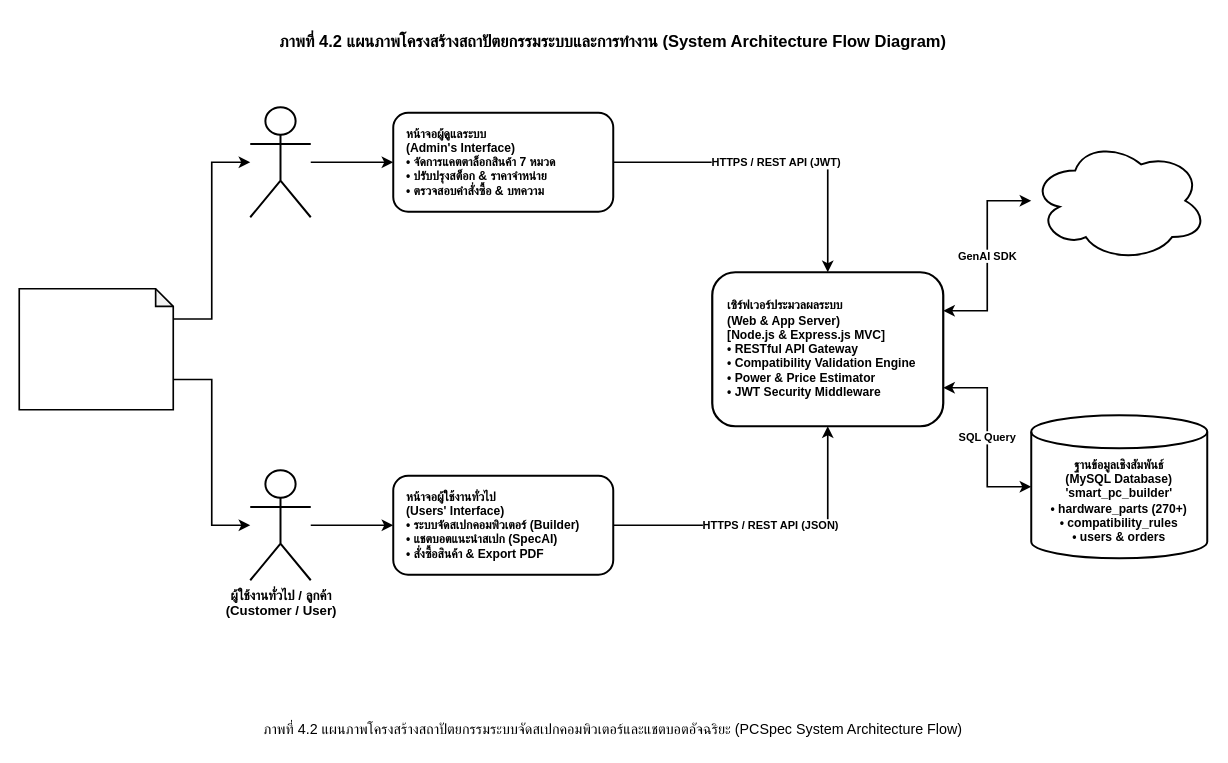
Some shapes in this 1228 by 763 pixel diagram are drawn without their labels. The centre of each missing label's shape, as x and y in pixels:
"ข้อมูลชิ้นส่วนฮาร์ดแวร์ & เงื่อนไขงบประมาณ (Hardware Specs & User Criteria)" belongs at (96,348).
"บริการคลาวด์ AI (Google Gemini API) • LLM Engine • วิเคราะห์คำแนะนำสเปก" belongs at (1119,200).
"ผู้ดูแลระบบ (Admin)" belongs at (280,162).
